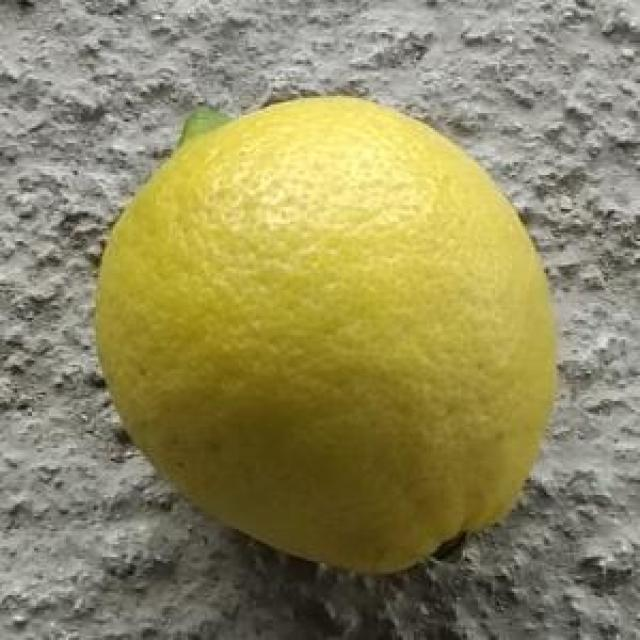lemon: (93, 95, 558, 576)
